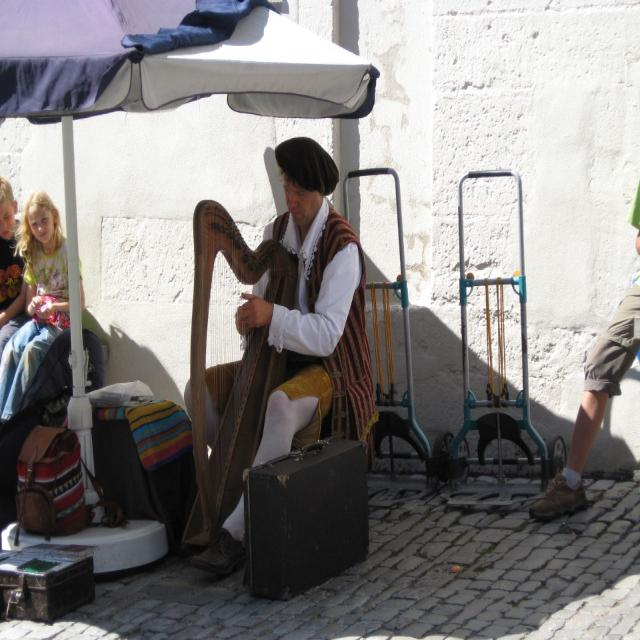harp: (189, 200, 292, 578)
